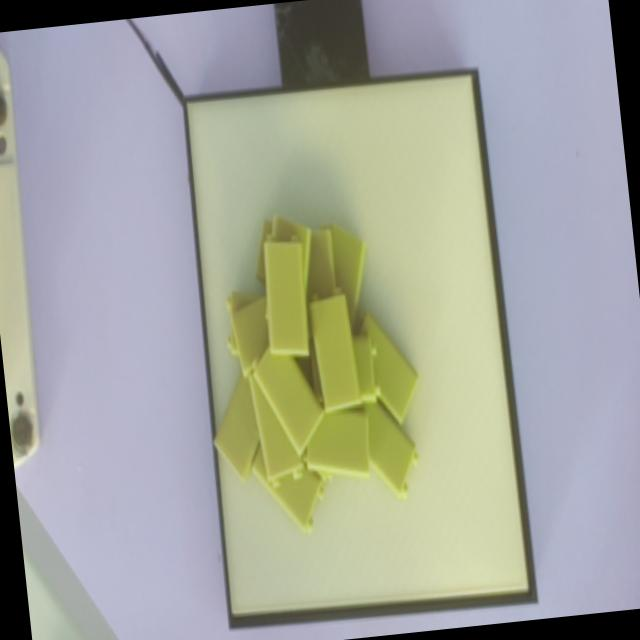bateria: (308, 286, 361, 412), (262, 232, 309, 356)
mesa: (181, 67, 538, 631)
